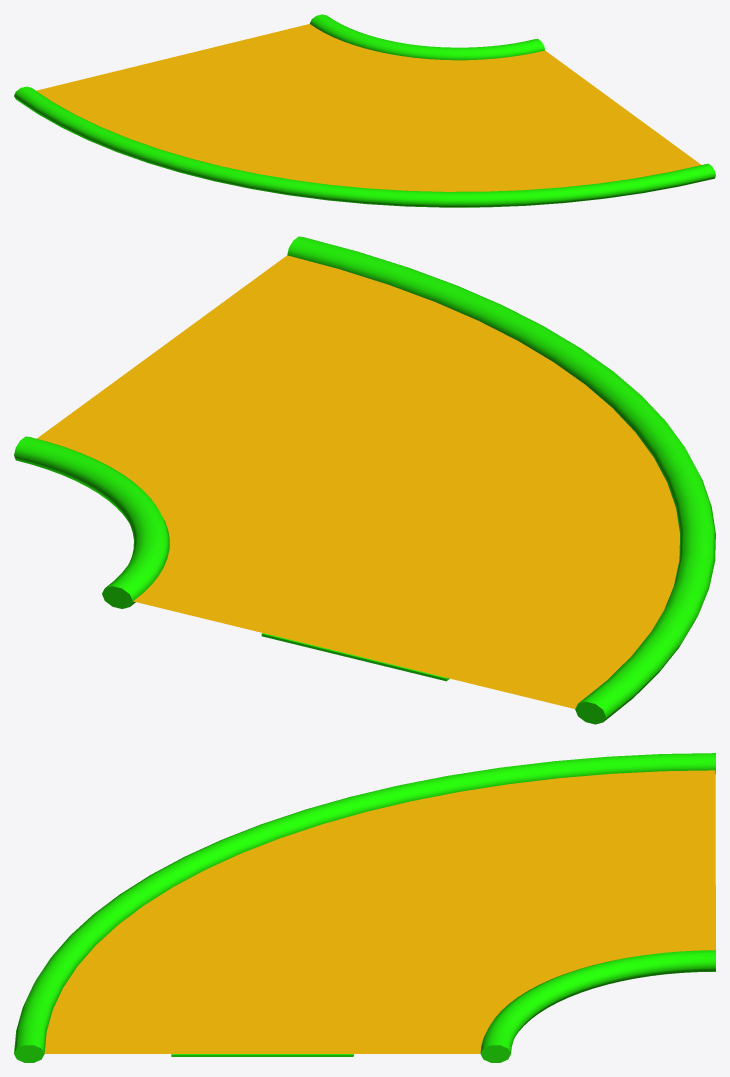
Rendered from Ramp L R.FBX.
3 views of the same model, one above another, from view 1: azimuth 30°, elevation 25°; view 2: azimuth 150°, elevation 25°; view 3: azimuth 270°, elevation 25° (orthographic). The views are drawn at different scales.
Parts seen in each view (by area): view 1: Plane005; view 2: Plane005; view 3: Plane005.
Part boxes in pixels (x1=…): Plane005: x1=14, y1=14, x2=715, y2=207; Plane005: x1=14, y1=236, x2=715, y2=724; Plane005: x1=14, y1=753, x2=715, y2=1062.
Size of the model in its own units: 26.86 by 0.7425 by 26.86.
